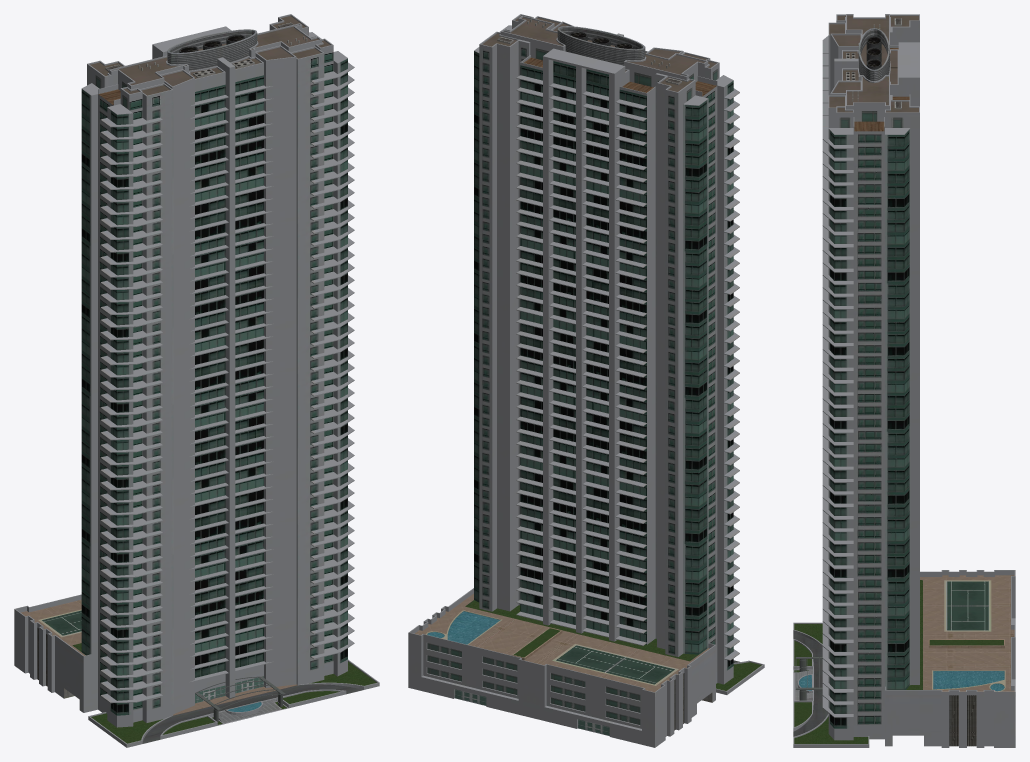
Rendered from miami-condo.glb.
3 renders of one model, left to right at view 1: azimuth 30°, elevation 25°; view 2: azimuth 150°, elevation 25°; view 3: azimuth 270°, elevation 25°, orthographic. The views are drawn at different scales.
Visible parts, largest first — view 1: hirise8_hirise8_0; view 2: hirise8_hirise8_0; view 3: hirise8_hirise8_0.
Part boxes in pixels (left/top/right/bottom): hirise8_hirise8_0: left=14, top=14, right=379, bottom=747; hirise8_hirise8_0: left=408, top=14, right=764, bottom=747; hirise8_hirise8_0: left=793, top=14, right=1015, bottom=747.
Bounding box in the file's own units: 6665 × 16249 × 5130.
Materials: 1 (1 with a texture image).
